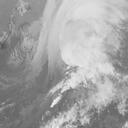cyclone: (37, 21, 107, 83)
